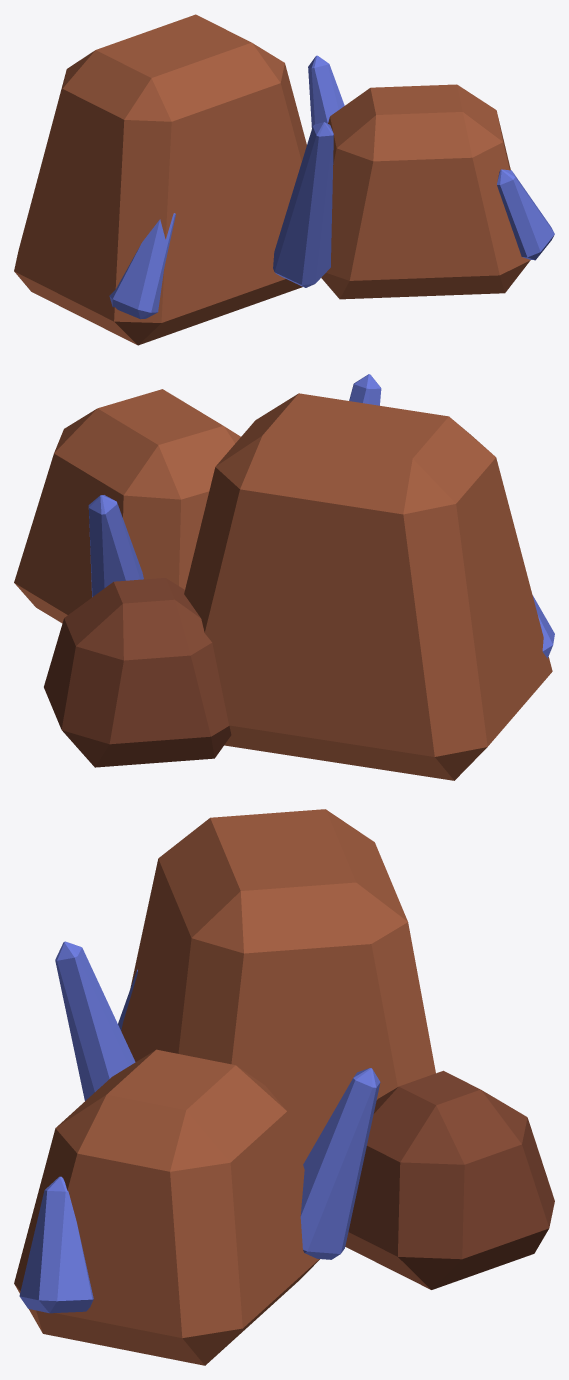
File: ab_ore_outcrop_b.glb
The picture shows the model from 3 angles, top to bottom: view 1: azimuth 30°, elevation 25°; view 2: azimuth 150°, elevation 25°; view 3: azimuth 270°, elevation 25°; orthographic projection. The views are drawn at different scales.
Parts seen in each view (by area): view 1: ab_ore_outcrop_b; view 2: ab_ore_outcrop_b; view 3: ab_ore_outcrop_b.
Part boxes in pixels (<box>): ab_ore_outcrop_b: <box>14,14,554,345</box>; ab_ore_outcrop_b: <box>14,374,554,780</box>; ab_ore_outcrop_b: <box>14,809,554,1365</box>.
Size of the model in its own units: 1.54 by 0.8 by 1.21.
